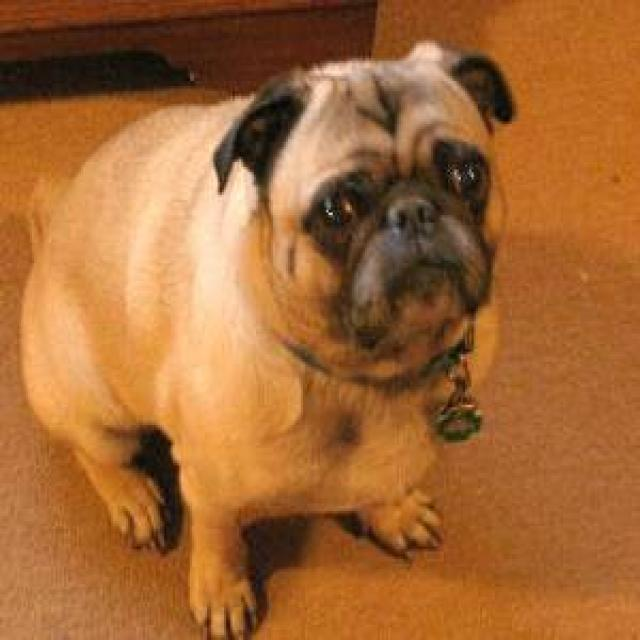dog-pug: (13, 33, 514, 635)
